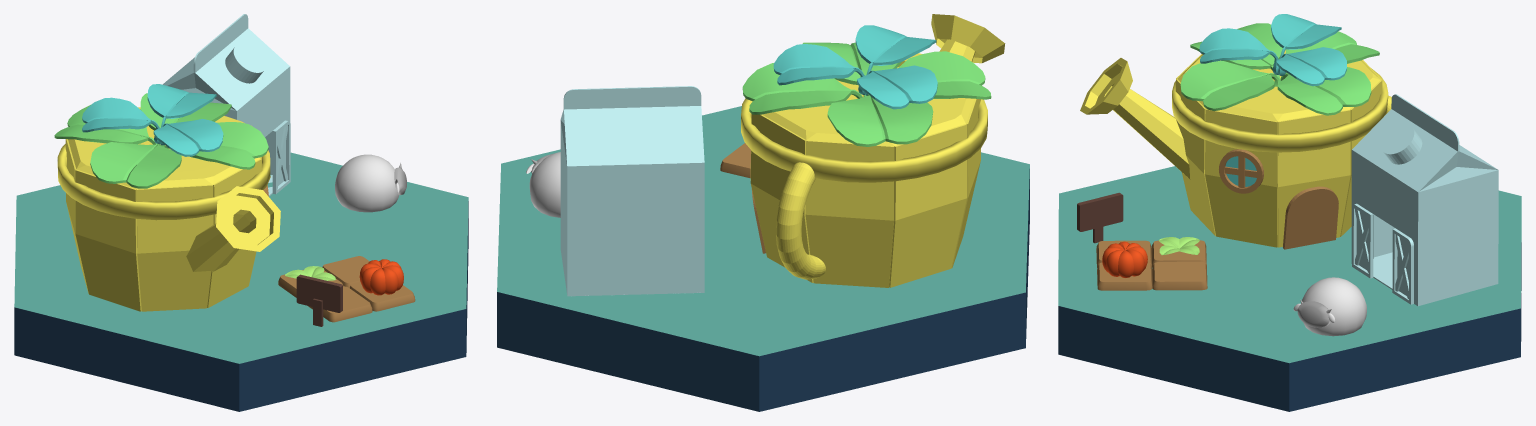
The model's file is Macro - farm barn lv2.fbx.
3 renders of one model, left to right at view 1: azimuth 30°, elevation 25°; view 2: azimuth 150°, elevation 25°; view 3: azimuth 270°, elevation 25°, orthographic. The views are drawn at different scales.
Visible parts, largest first — view 1: Cylinder.154, Cube.020, Milk_Carton_packet.001, Cube.047, Plane.009, Cube.046, Sphere.011, Cube.019, Plane.014, Plane.015, Plane.016, Cube.045 (+7 smaller); view 2: Cylinder.154, Milk_Carton_packet.001, Cube.020, Cube.047, Plane.005, Cube.005, Plane.020, Plane.016, Plane.009, Plane.010, Plane.015, Cube.046 (+4 smaller); view 3: Cylinder.154, Milk_Carton_packet.001, Cube.020, Cube.047, Cube.019, Plane.014, Cube.033, Cube.045, Plane.020, Sphere.011, Plane.010, Plane.015 (+10 smaller).
Boxes of the visible parts, bbox=[...] form: Cylinder.154: bbox=[14, 152, 468, 411]; Cube.020: bbox=[65, 107, 262, 311]; Milk_Carton_packet.001: bbox=[163, 14, 290, 196]; Cube.047: bbox=[57, 144, 270, 220]; Plane.009: bbox=[90, 142, 181, 188]; Cube.046: bbox=[216, 186, 280, 251]; Sphere.011: bbox=[335, 154, 398, 212]; Cube.019: bbox=[278, 256, 415, 322]; Plane.014: bbox=[165, 122, 268, 169]; Plane.015: bbox=[153, 119, 223, 156]; Plane.016: bbox=[82, 97, 159, 143]; Cube.045: bbox=[186, 214, 249, 271]; Cylinder.154: bbox=[497, 106, 1029, 411]; Milk_Carton_packet.001: bbox=[560, 86, 704, 296]; Cube.020: bbox=[750, 53, 980, 287]; Cube.047: bbox=[741, 98, 987, 182]; Plane.005: bbox=[827, 94, 933, 146]; Cube.005: bbox=[776, 162, 825, 279]; Plane.020: bbox=[742, 63, 862, 114]; Plane.016: bbox=[857, 65, 937, 109]; Plane.009: bbox=[898, 51, 991, 99]; Plane.010: bbox=[773, 44, 864, 94]; Plane.015: bbox=[855, 25, 936, 74]; Cube.046: bbox=[931, 14, 1005, 63]; Cylinder.154: bbox=[1058, 166, 1521, 411]; Milk_Carton_packet.001: bbox=[1351, 94, 1498, 306]; Cube.020: bbox=[1175, 54, 1382, 247]; Cube.047: bbox=[1172, 68, 1388, 152]; Cube.019: bbox=[1096, 240, 1207, 290]; Plane.014: bbox=[1180, 61, 1279, 110]; Cube.033: bbox=[1283, 186, 1338, 249]; Cube.045: bbox=[1113, 89, 1190, 179]; Plane.020: bbox=[1277, 67, 1371, 115]; Sphere.011: bbox=[1302, 277, 1366, 336]; Plane.010: bbox=[1276, 47, 1346, 86]; Plane.015: bbox=[1199, 28, 1278, 74].
Bounding box in the file's own units: 197 × 88.37 × 172.
